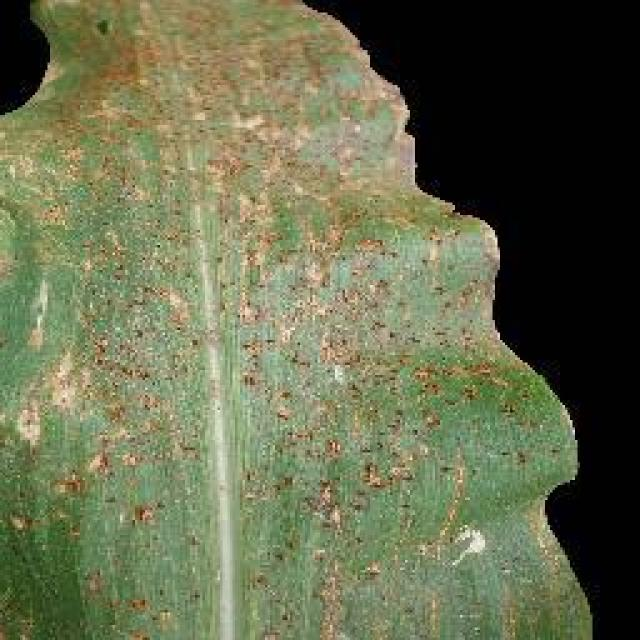Corn Common Rust: (45, 10, 587, 640)
